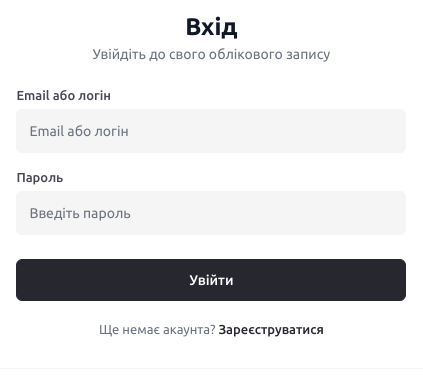
Test case: Auth integration › Login: обробляє помилку API 401
The width and height of the screenshot is (423, 379).
Type "testuser" into the field labelled "Email або логін".
click(211, 131); type("testuser")  # box [16, 109, 406, 153]
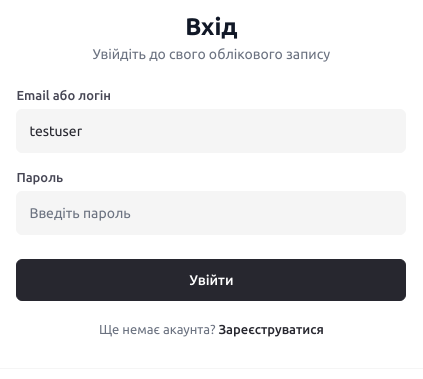
Type "WrongPassword123" into the password field labelled "Пароль".
click(211, 213); type("WrongPassword123")  # box [16, 191, 406, 235]
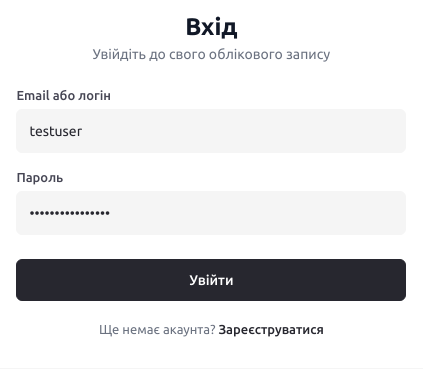
Click the button "Увійти".
click(211, 280)  # box [16, 259, 406, 301]
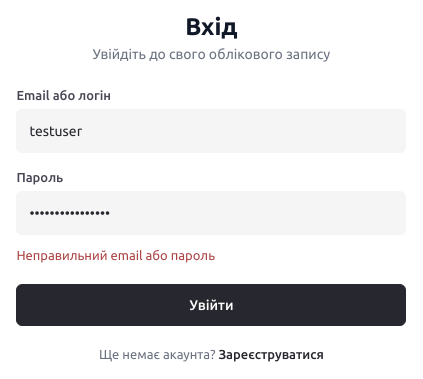
Check: the text "Неправильний email або пароль" is shown, box [16, 248, 215, 262]
